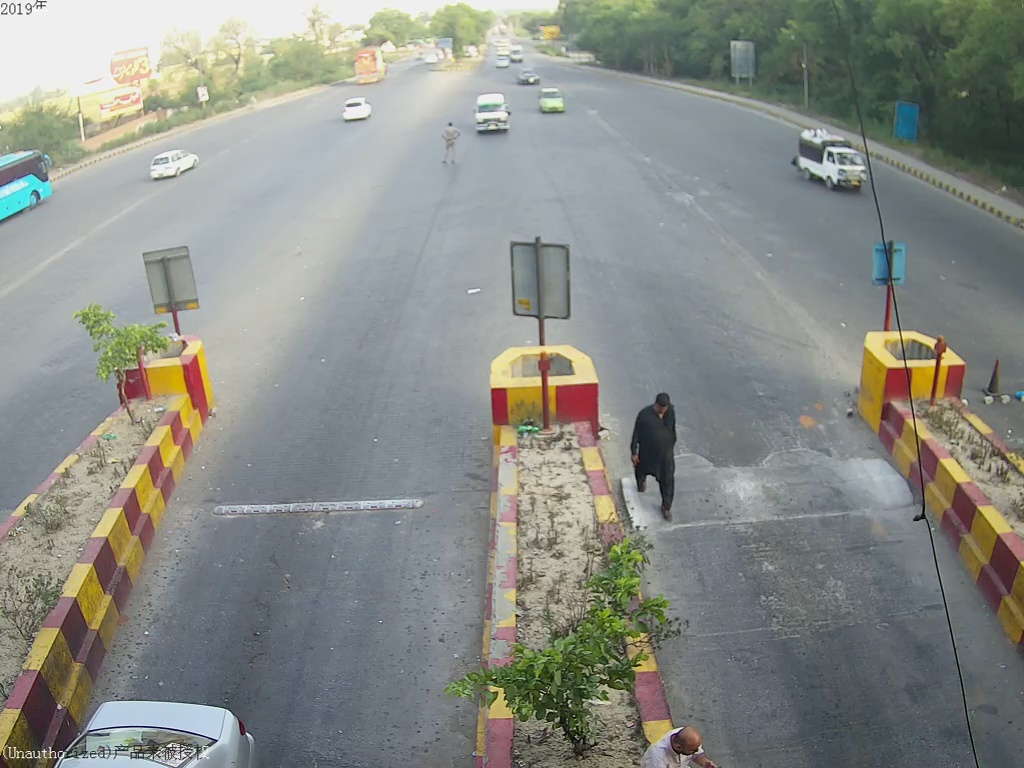Cat-1: (529, 90, 569, 117)
Cat-2: (467, 95, 512, 133)
